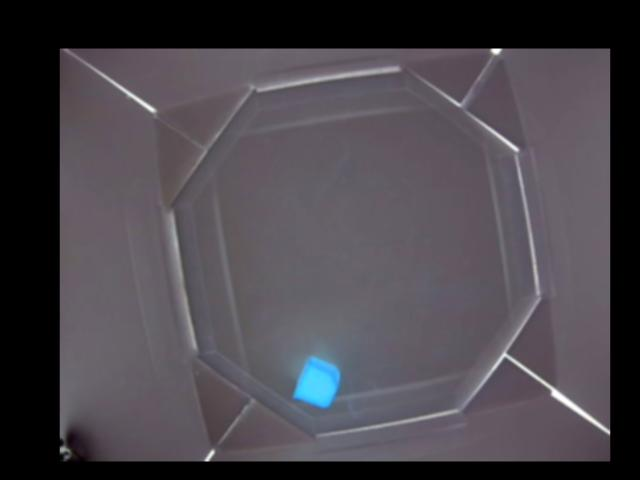Carrot: (292, 355, 341, 408)
